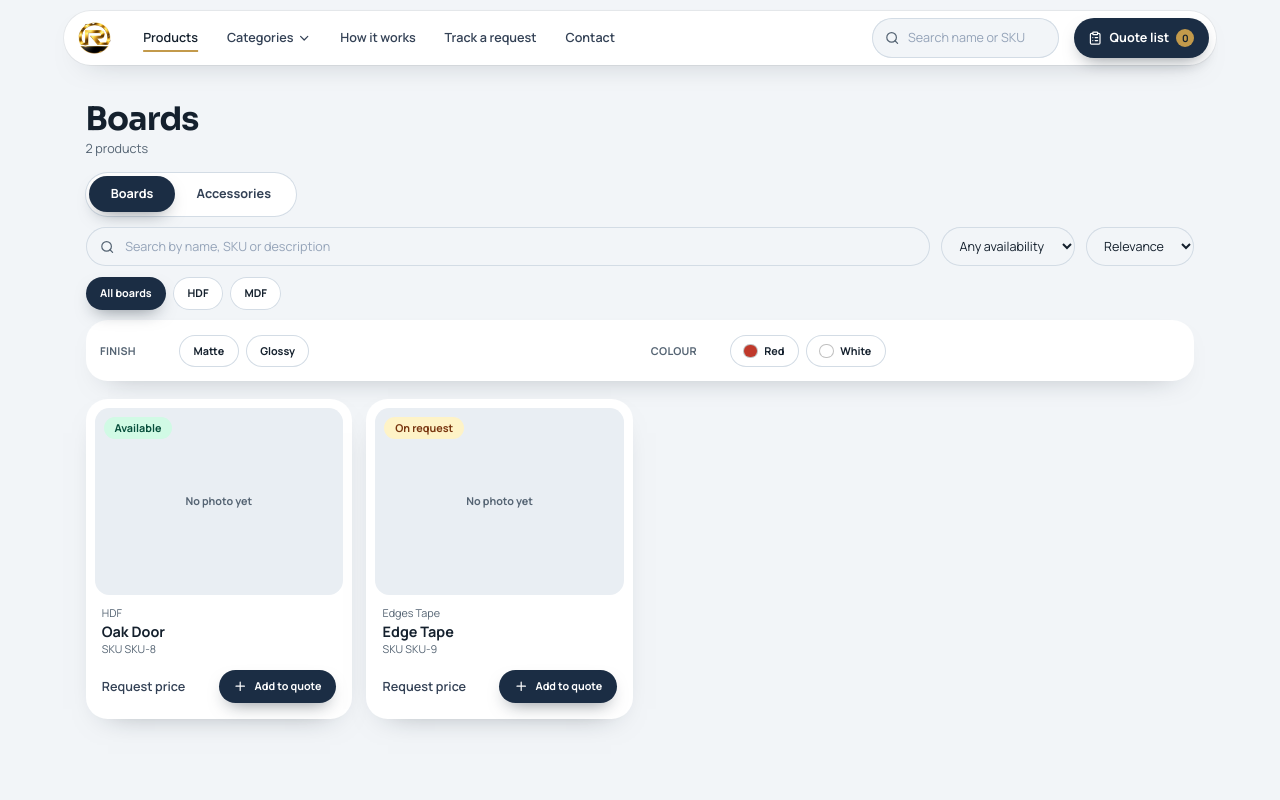
Test: the product page is split into Boards and Accessories, each with its own categories
The image size is (1280, 800).
Check: the link "Oak Door" is shown, box [102, 622, 165, 641]
Check: the heading reads "Boards", box [86, 99, 199, 139]
Step 1. Click the button "Accessories" → x=234, y=194, box [175, 176, 293, 212]
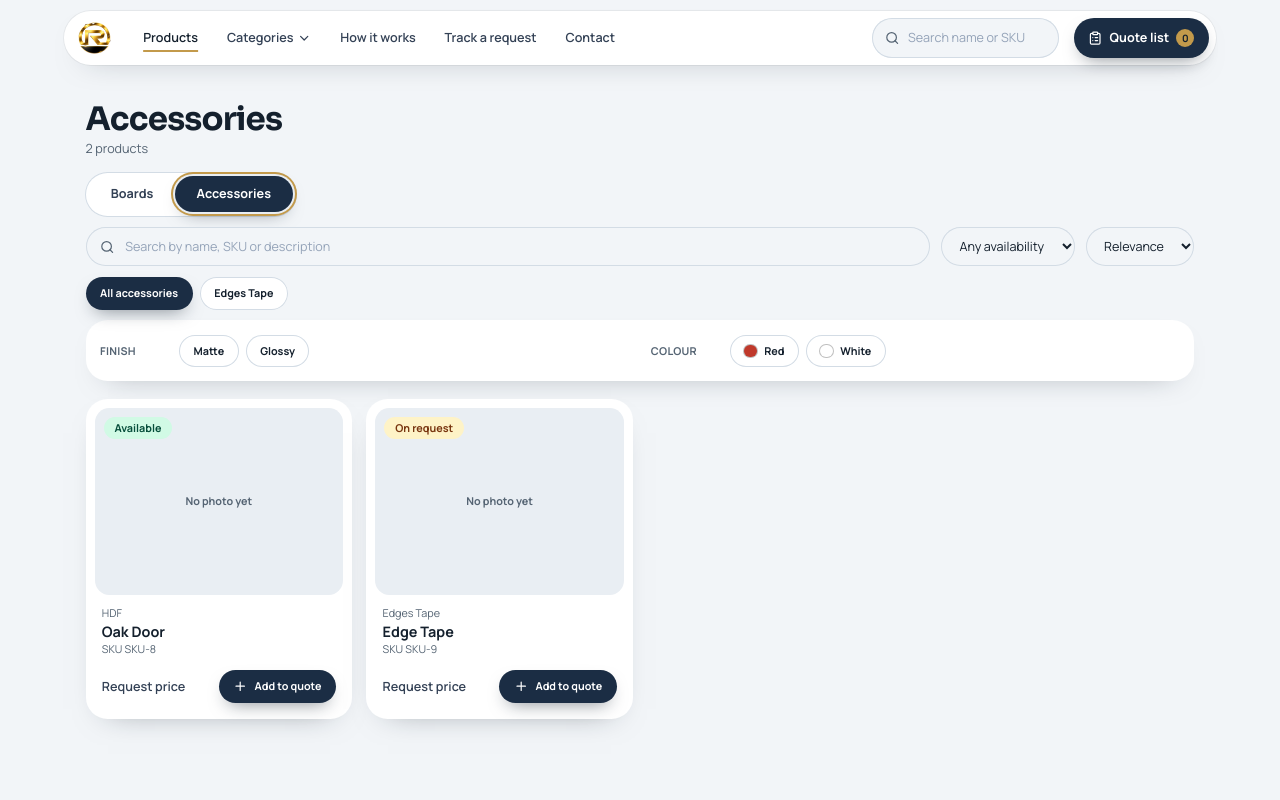
Check: the heading reads "Accessories", box [86, 99, 282, 139]
